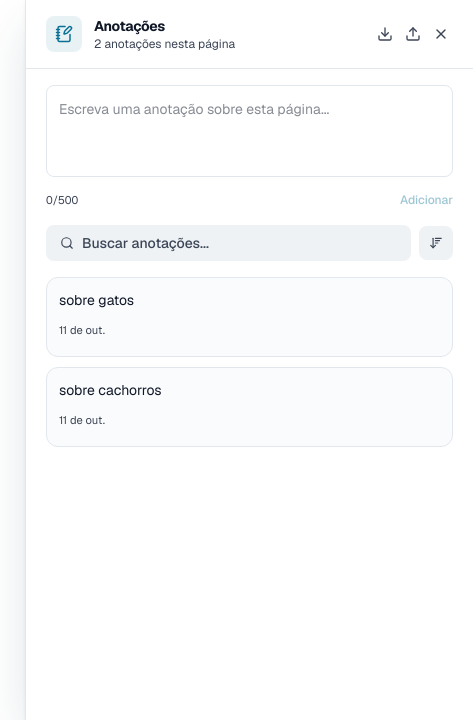
Test: AnnotationsPanel › filters annotations by note text
Type "gatos" into the field with placeholder "Buscar anotações..." at (240, 243), box [82,233,397,253]
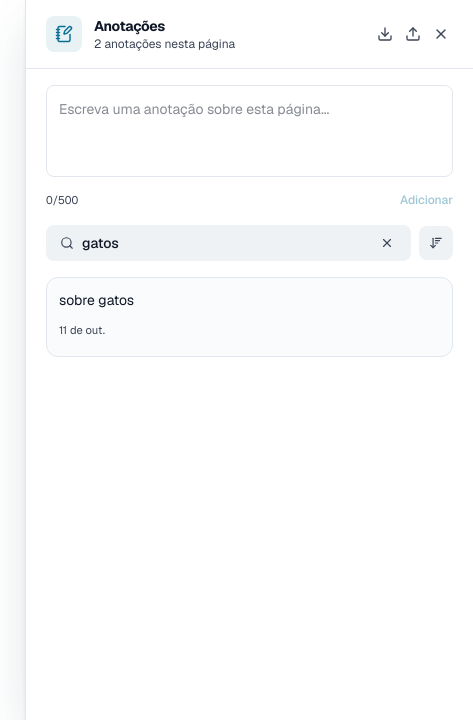
Expected: the text "sobre gatos" is shown, [59,291,134,309]
Expected: the text "sobre cachorros" is gone
